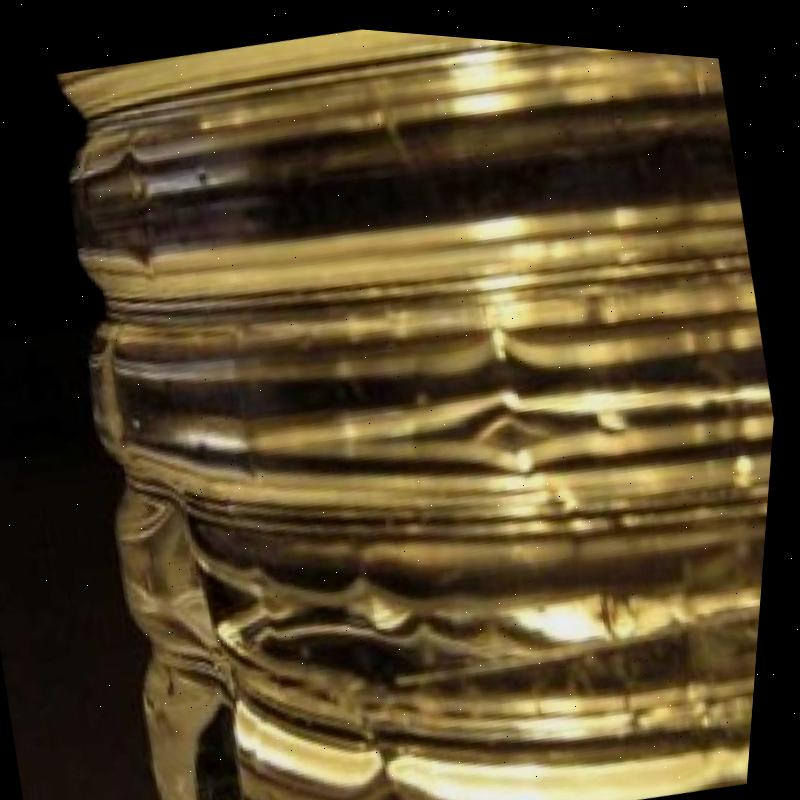botella: (0, 3, 800, 800)
